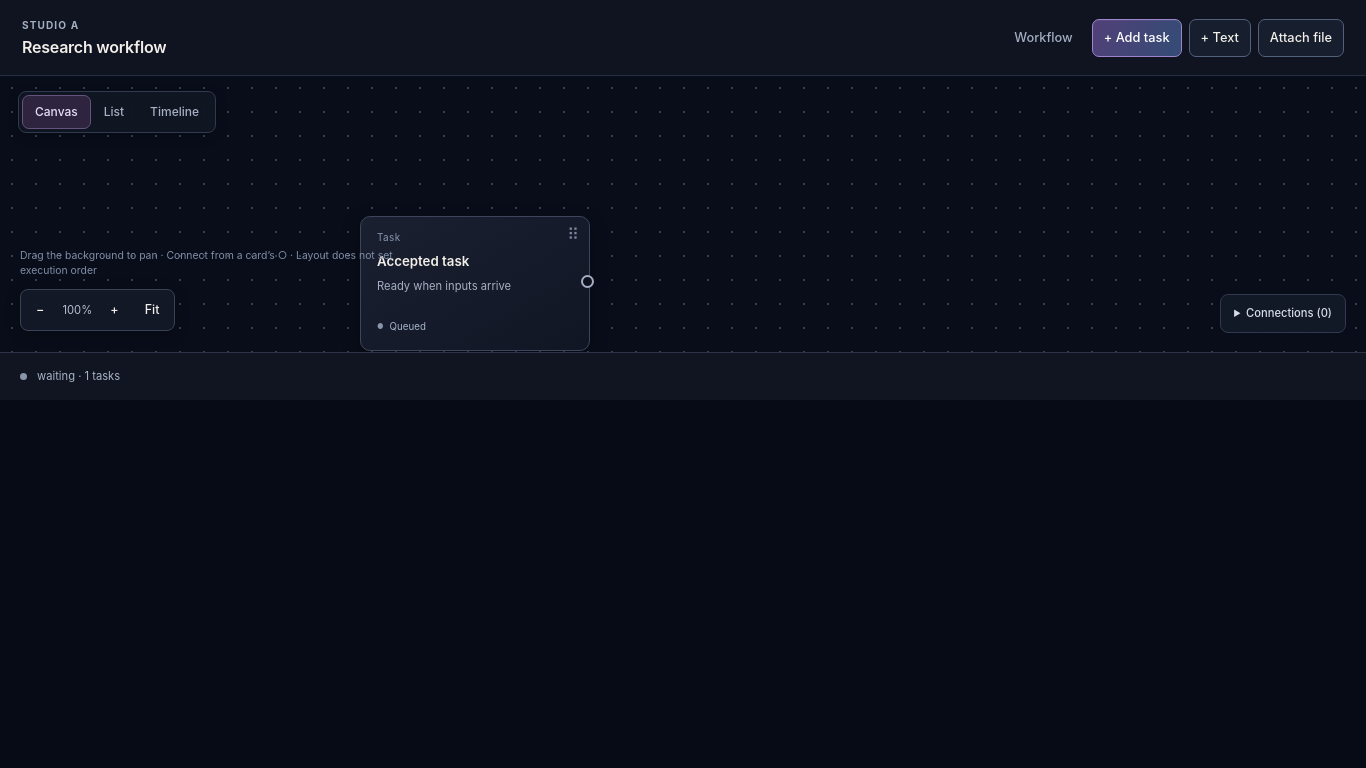
it: explains a start racing a prospective edit and keeps the rejected instructions
Click the button with aria-label "Accepted task · queued". click: (475, 284)
box: [361,217,589,350]
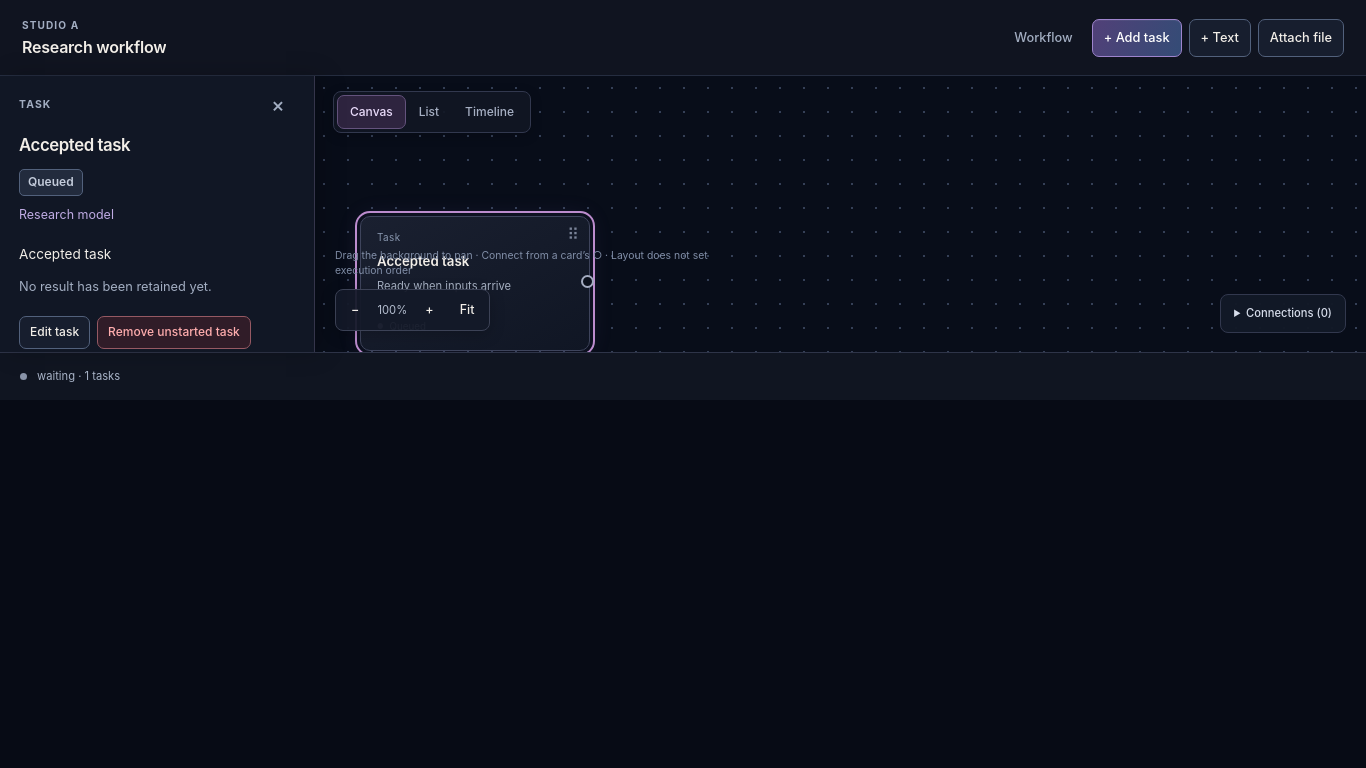
Click the button "Edit task". click: (55, 332)
box: [19,316,90,349]
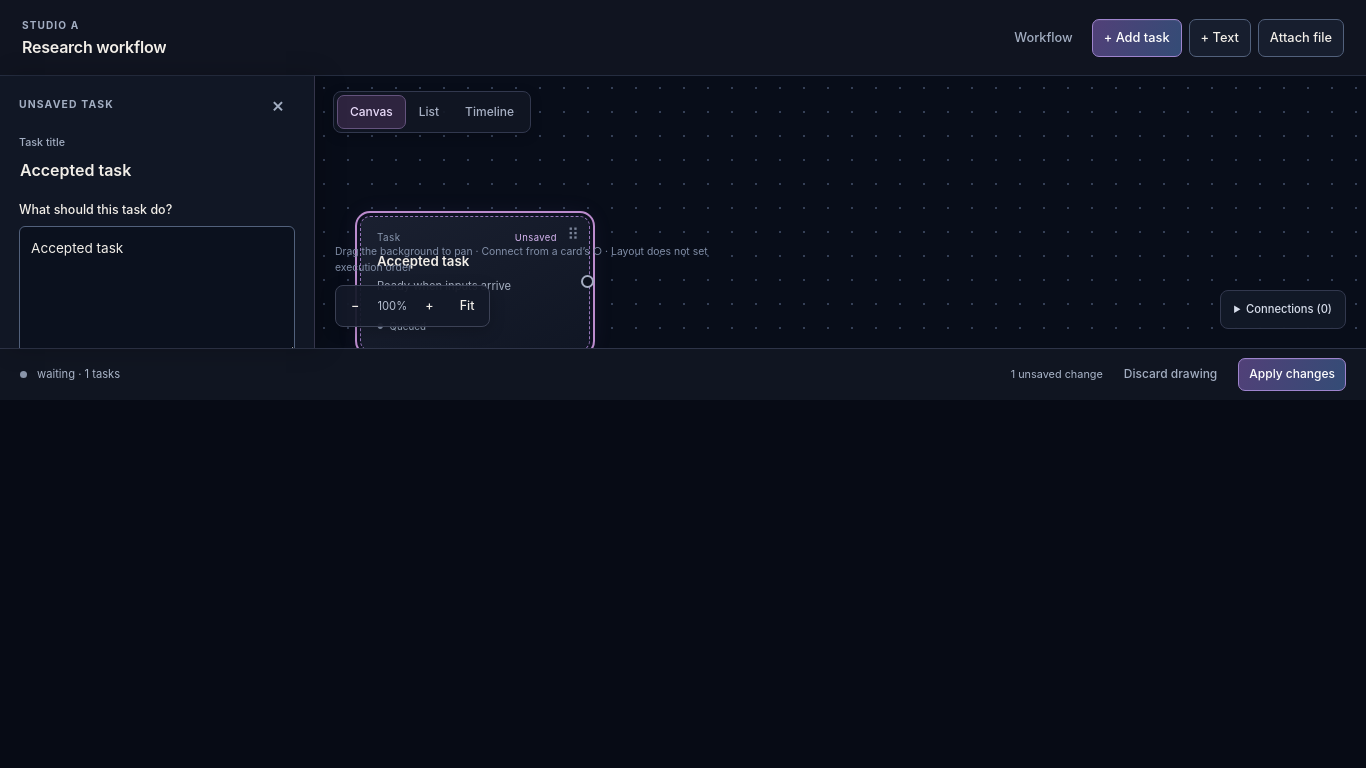
Replace the text in the text box labelled "What should this task do?" with "Prospective edit". click: (157, 290)
box: [19,226,295,355]
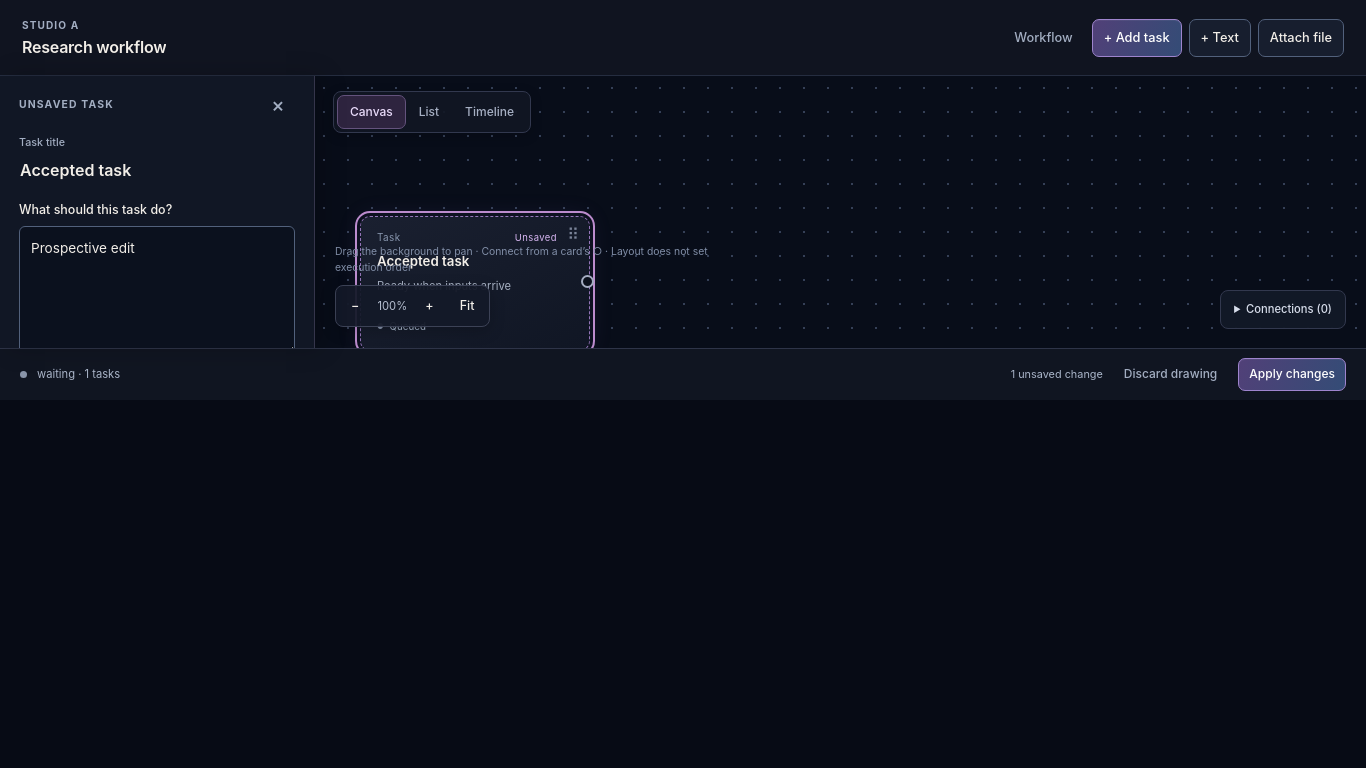
Submit the form, box [19,135,295,749]
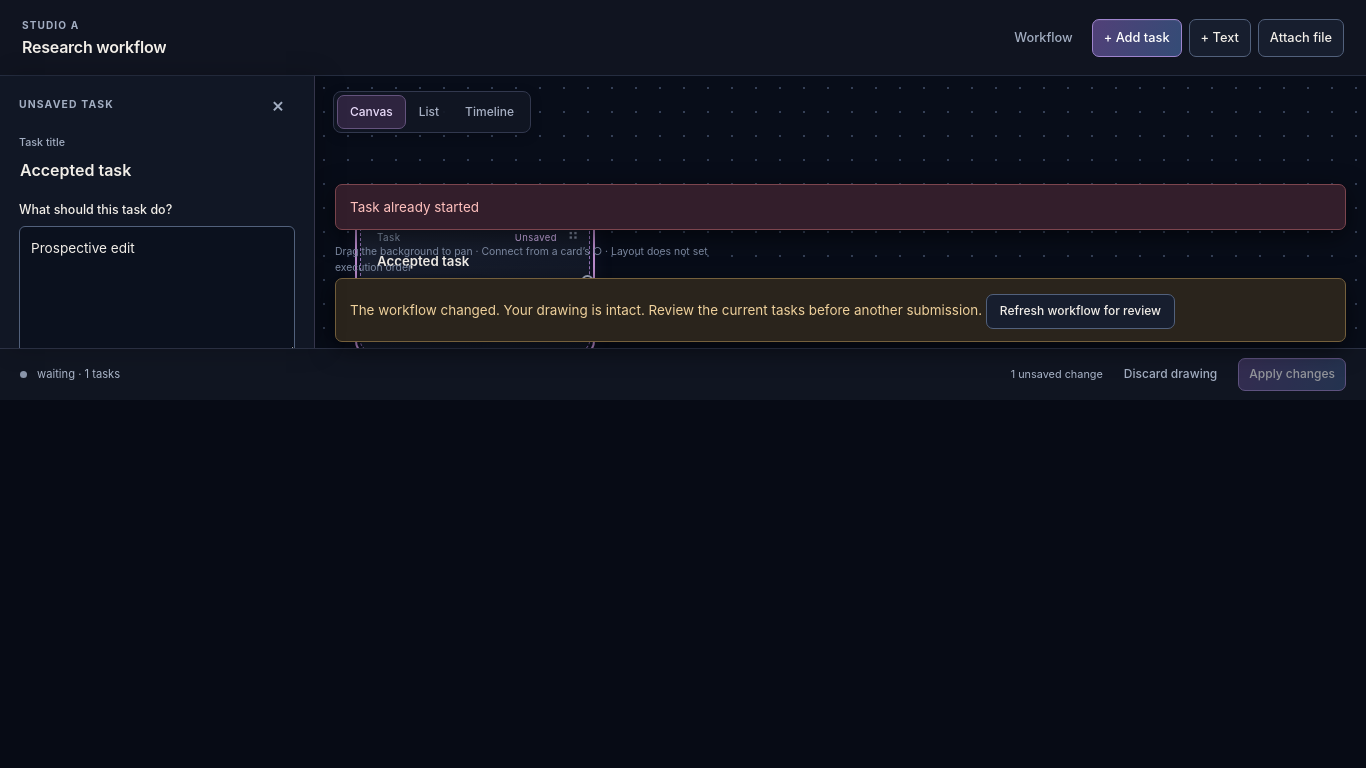
Result: the button "Refresh workflow for review" is shown
Click the button "Refresh workflow for review". click: (1080, 312)
box: [986,294,1175,329]
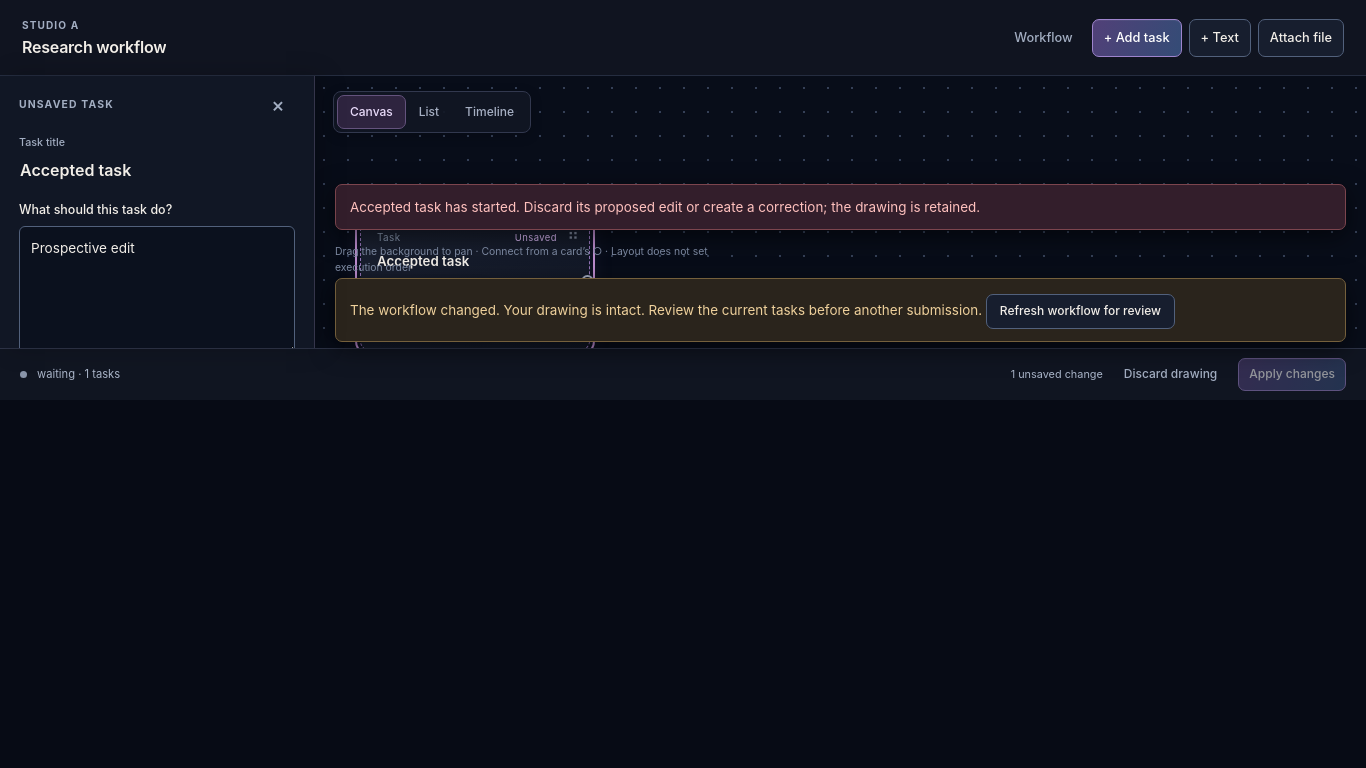
Result: the text "has started" is shown at [350,199,980,215]
